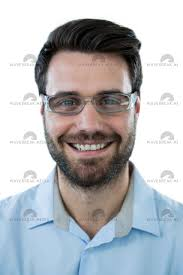Glasses: (34, 89, 140, 116)
